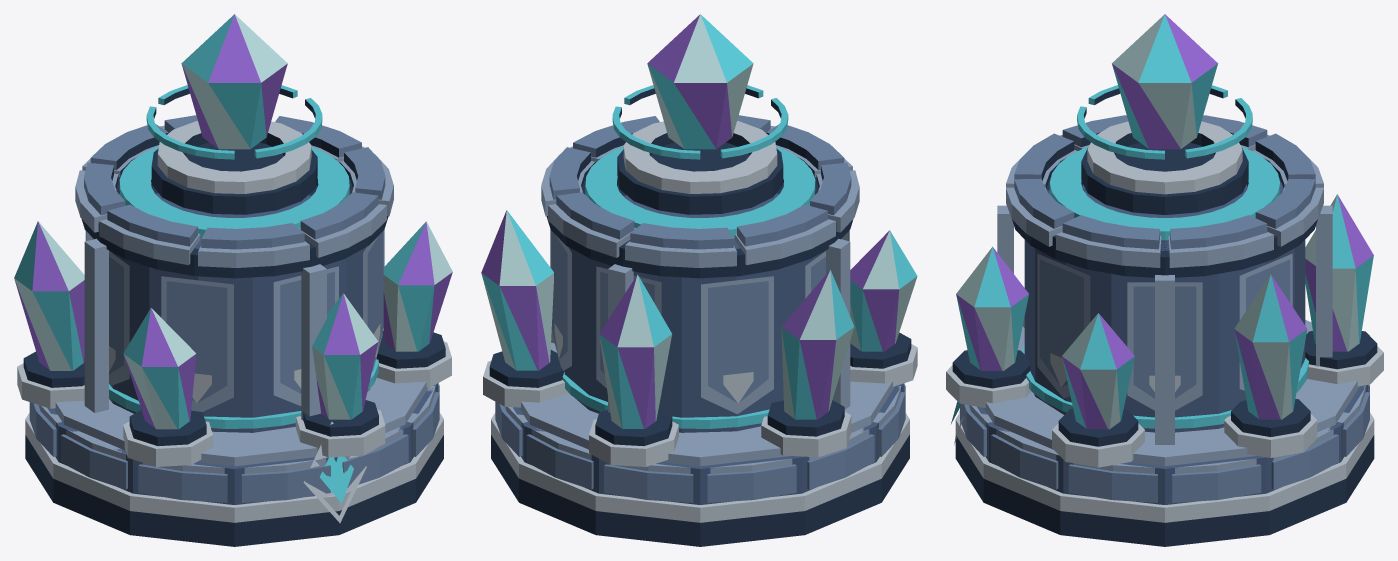
File: modular-chassis-tier-3.glb
3 renders of one model, left to right at view 1: azimuth 30°, elevation 25°; view 2: azimuth 150°, elevation 25°; view 3: azimuth 270°, elevation 25°, orthographic.
Visible parts, largest first — view 1: body, core-energy; view 2: body, core-energy; view 3: body, core-energy.
Boxes of the visible parts, bbox=[...] form: body: bbox=[14, 115, 452, 546]; core-energy: bbox=[146, 14, 322, 159]; body: bbox=[481, 115, 917, 546]; core-energy: bbox=[612, 14, 788, 159]; body: bbox=[946, 115, 1383, 546]; core-energy: bbox=[1077, 14, 1252, 159].
Bounding box in the file's own units: 1.26 × 1.48 × 1.32.
